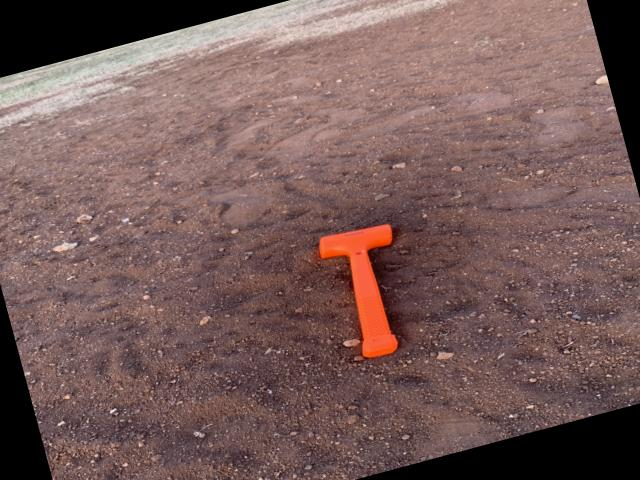hammer: (313, 217, 426, 364)
